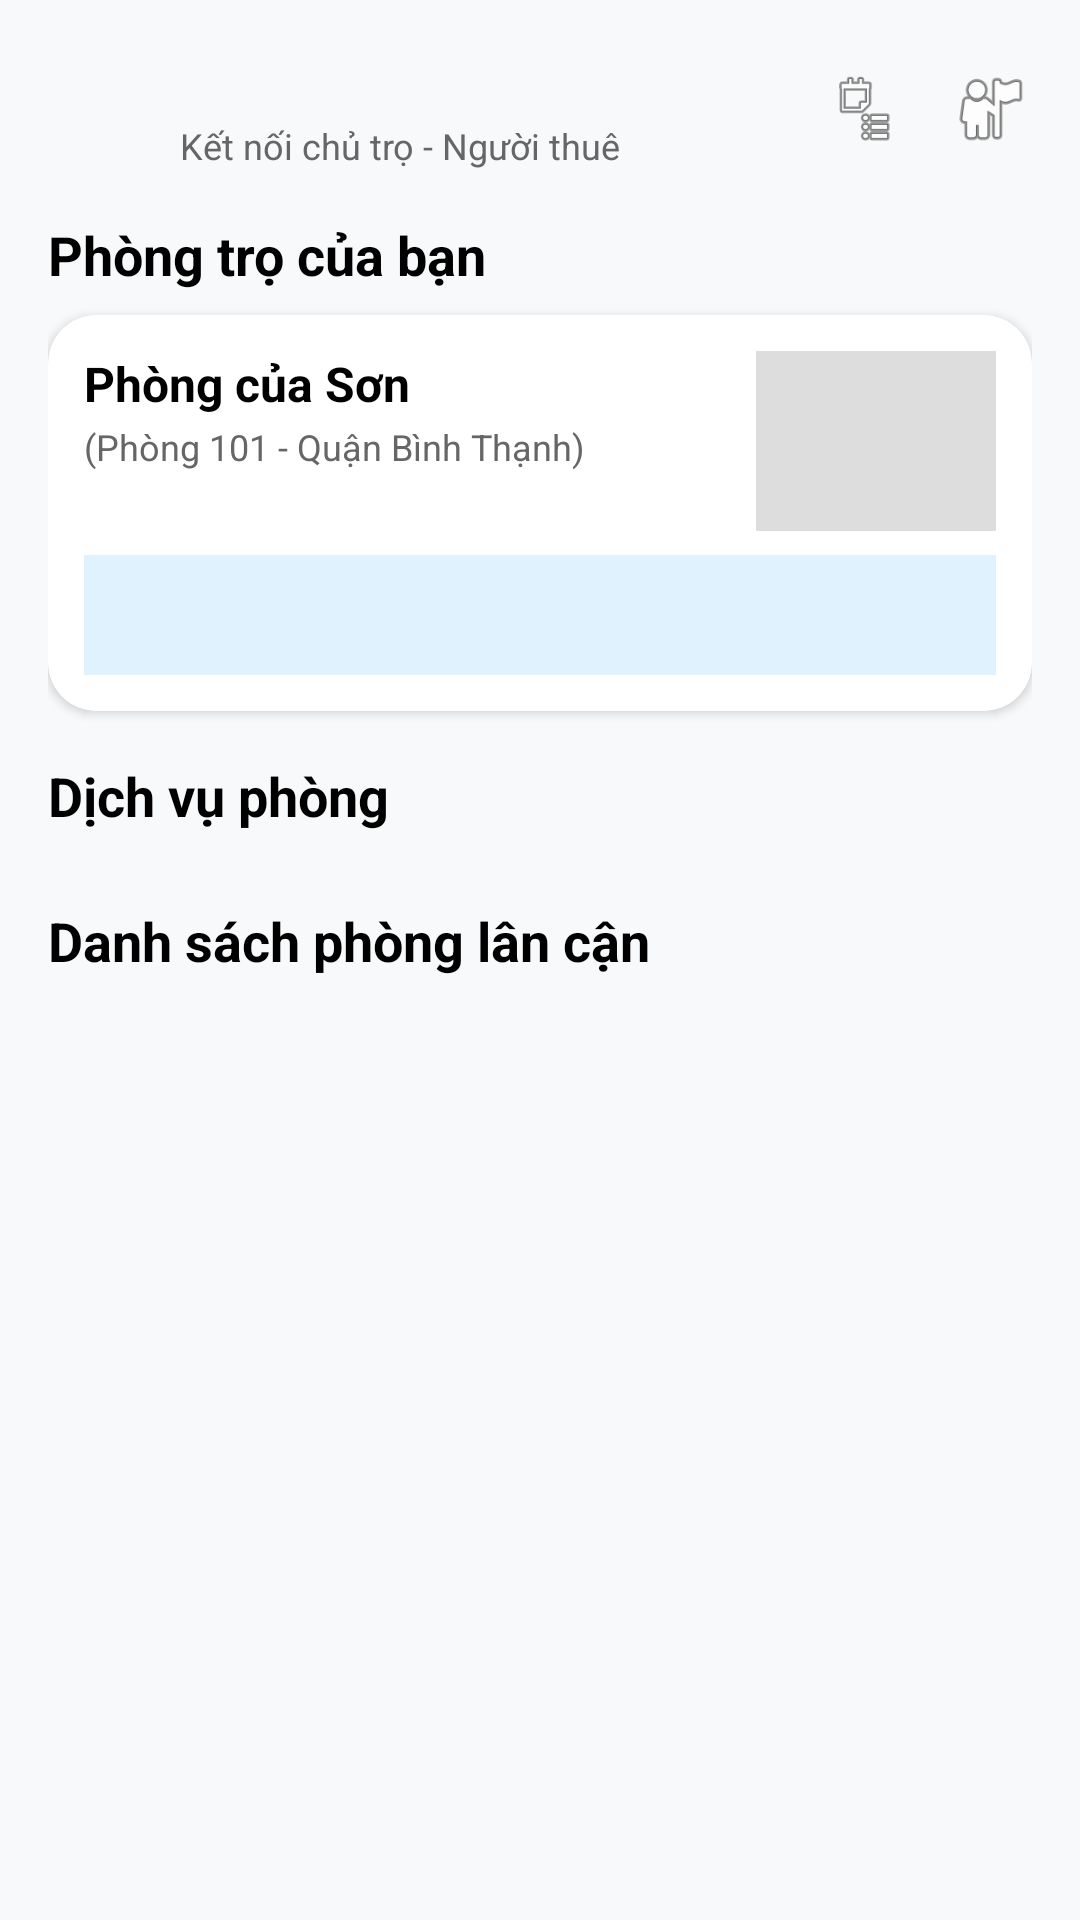

Icon click points for this 1080x1920 phone screenshot, format [x,y]:
agenda: [864,109]
myplaces: [991,109]
